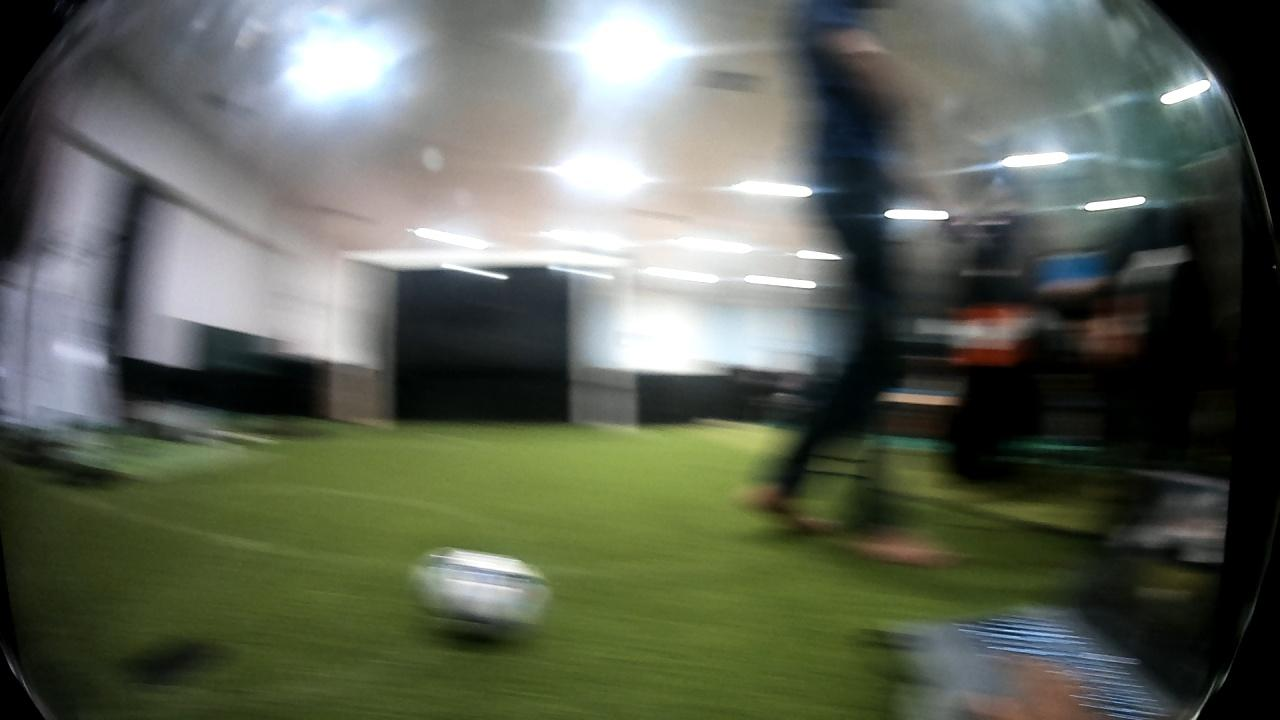ball: (401, 535, 552, 636)
